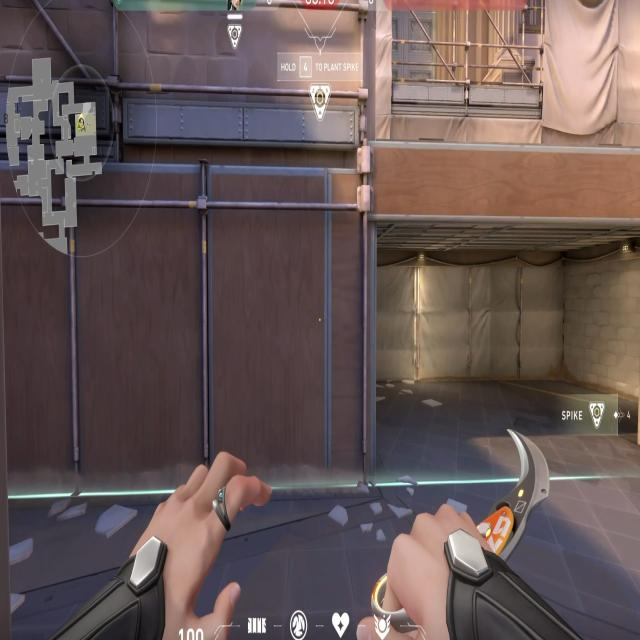A_Hell: (356, 90, 640, 495)
